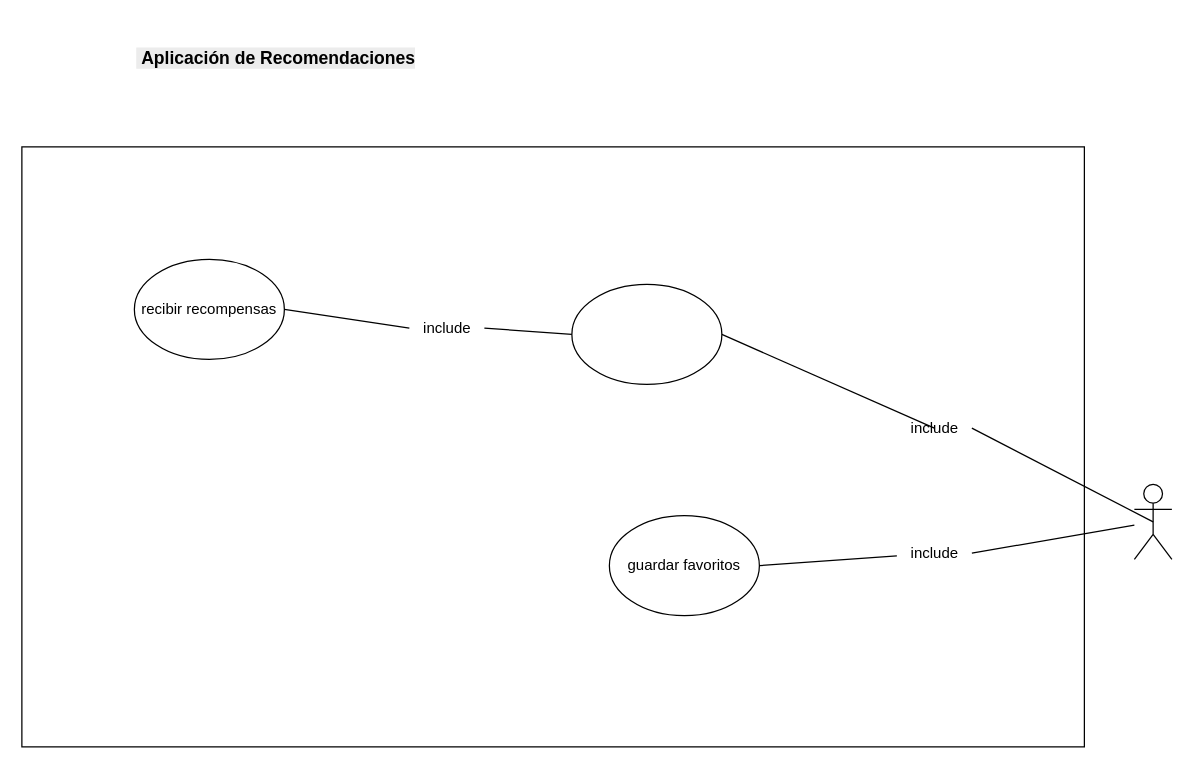
This 1199x769 diagram has some shape labels left out. Here are the shapes that lost their labels. From the top down, the box of each, then its label:
(571, 283, 722, 384): ingresar preferencias
(1133, 483, 1172, 559): usuario
